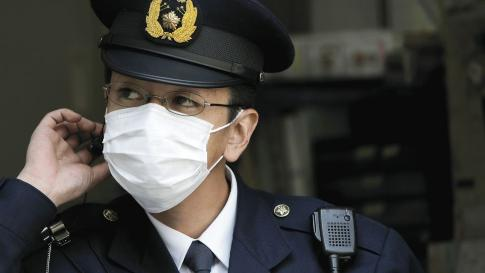mask: (103, 108, 217, 217)
